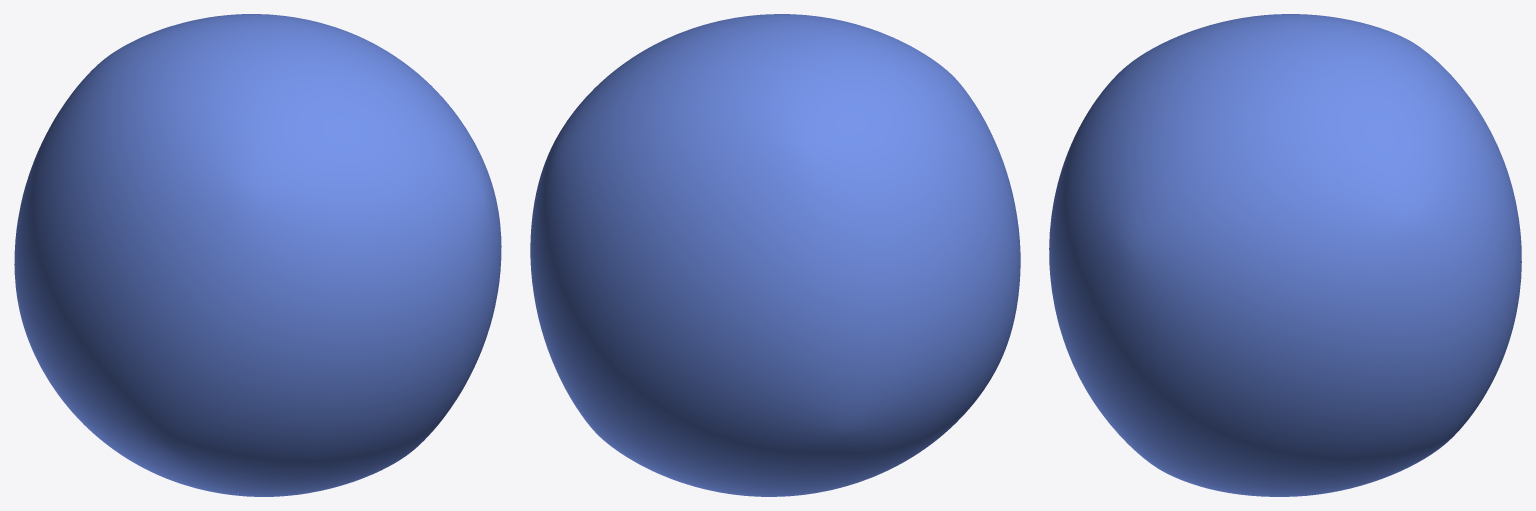
The model's file is World_02a.fbx.
3 views of the same model, side by side, from view 1: azimuth 30°, elevation 25°; view 2: azimuth 150°, elevation 25°; view 3: azimuth 270°, elevation 25° (orthographic).
Visible parts, largest first — view 1: Cube; view 2: Cube; view 3: Cube.
Part boxes in pixels (left/top/right/bottom): Cube: left=14, top=14, right=501, bottom=496; Cube: left=530, top=14, right=1020, bottom=496; Cube: left=1049, top=14, right=1521, bottom=496.
Size of the model in its own units: 1.59 by 1.59 by 1.59.
